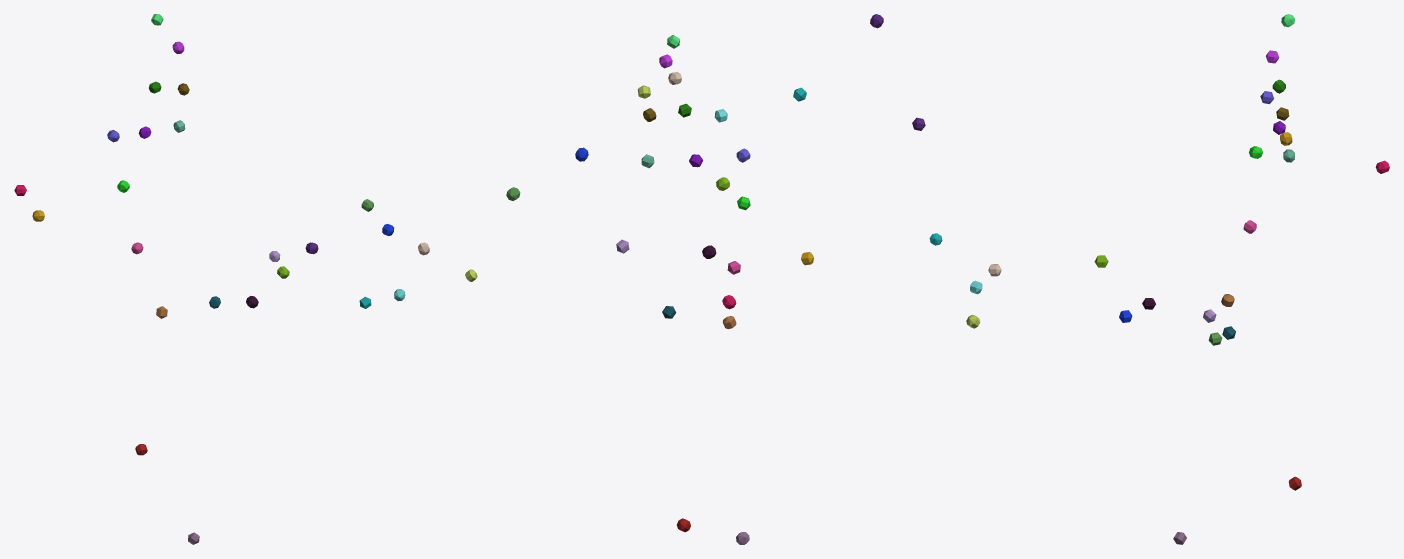
The model's file is fg-00070-bone.obj.
3 views of the same model, side by side, from view 1: azimuth 30°, elevation 25°; view 2: azimuth 150°, elevation 25°; view 3: azimuth 270°, elevation 25° (orthographic). The views are drawn at different scales.
Size of the model in its own units: 0.2718 by 0.4152 by 0.3345.
